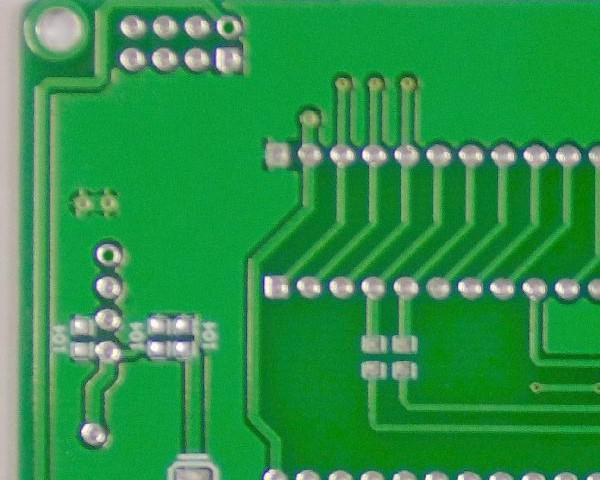missing hole: (89, 238, 128, 271), (214, 10, 248, 44)
